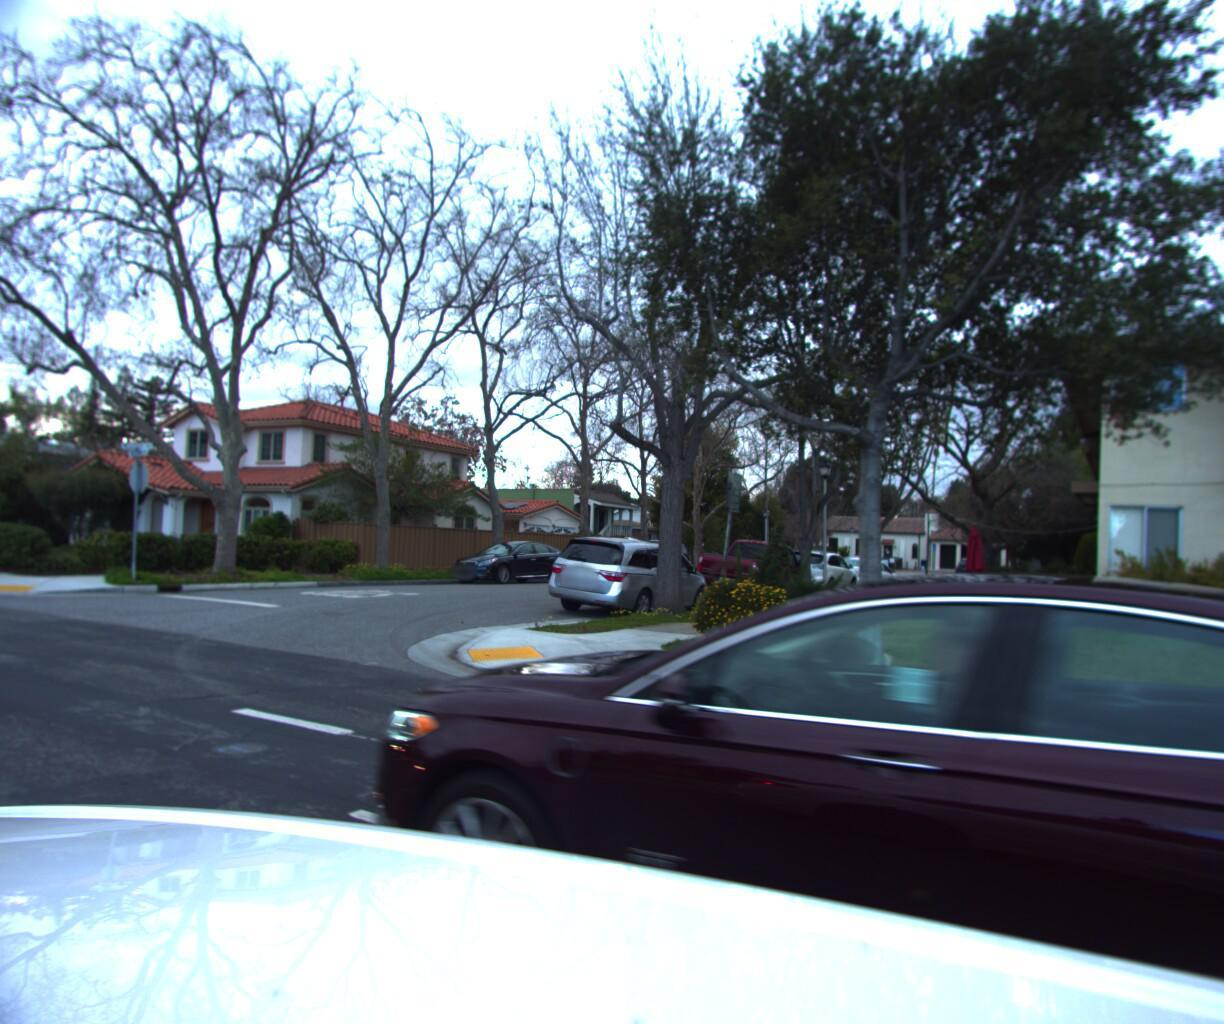car: (333, 506, 1224, 1024), (536, 524, 719, 624), (687, 534, 817, 606), (441, 533, 579, 588), (769, 543, 863, 596), (607, 539, 698, 580), (825, 549, 906, 590), (951, 554, 992, 580)
